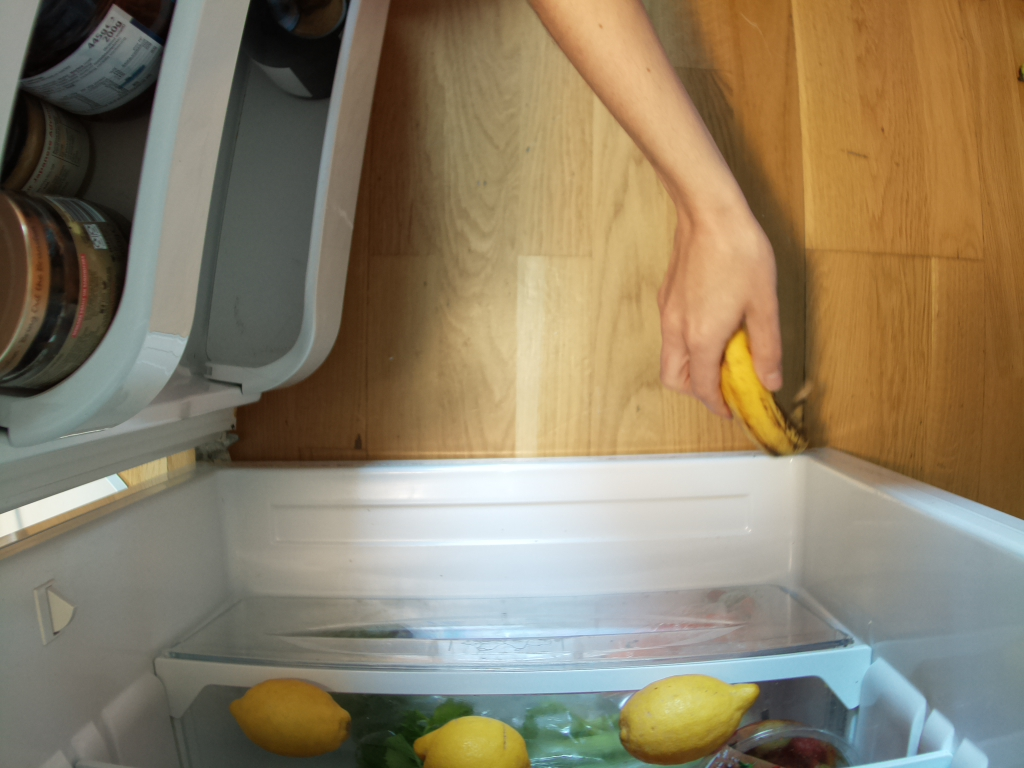banana-overripe: (726, 324, 812, 456)
